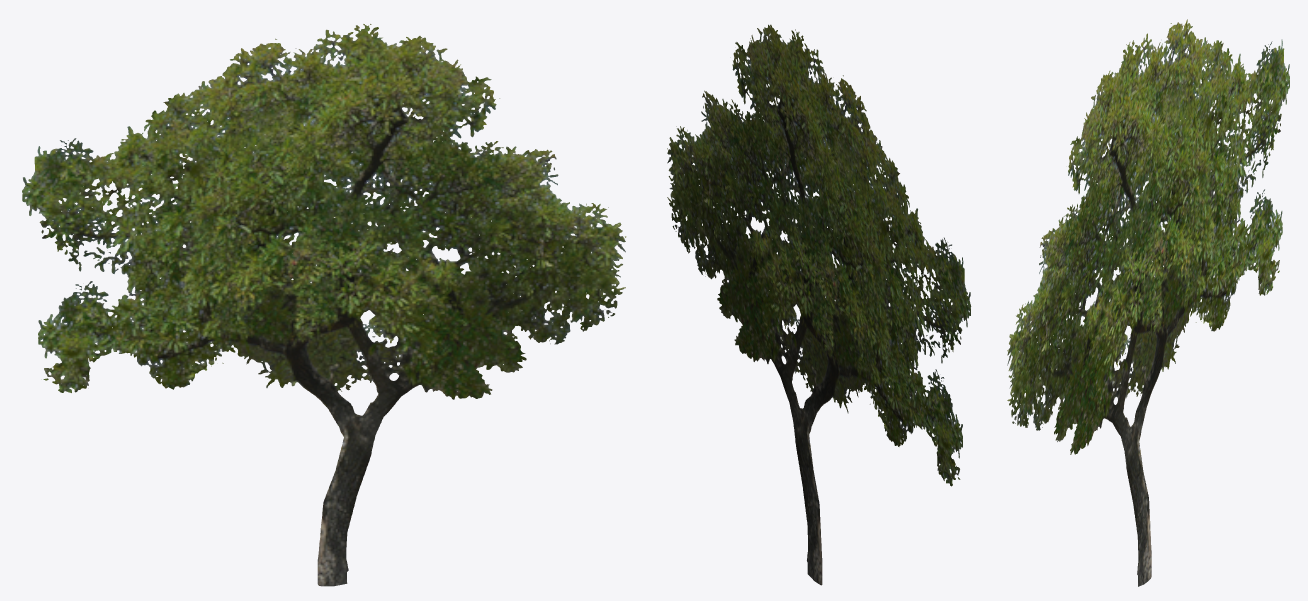
Rendered from tree1.fbx.
The picture shows the model from 3 angles, left to right: view 1: azimuth 30°, elevation 25°; view 2: azimuth 150°, elevation 25°; view 3: azimuth 270°, elevation 25°; orthographic projection. The views are drawn at different scales.
Parts seen in each view (by area): view 1: Mesh2778 shi_tree49 G_2D_trees1 Model; view 2: Mesh2778 shi_tree49 G_2D_trees1 Model; view 3: Mesh2778 shi_tree49 G_2D_trees1 Model.
Part boxes in pixels (<box>): Mesh2778 shi_tree49 G_2D_trees1 Model: <box>22,24,626,586</box>; Mesh2778 shi_tree49 G_2D_trees1 Model: <box>667,24,971,585</box>; Mesh2778 shi_tree49 G_2D_trees1 Model: <box>1007,19,1289,586</box>.
Bounding box in the file's own units: 682 × 788 × 368.
Materials: 1 (1 with a texture image).
